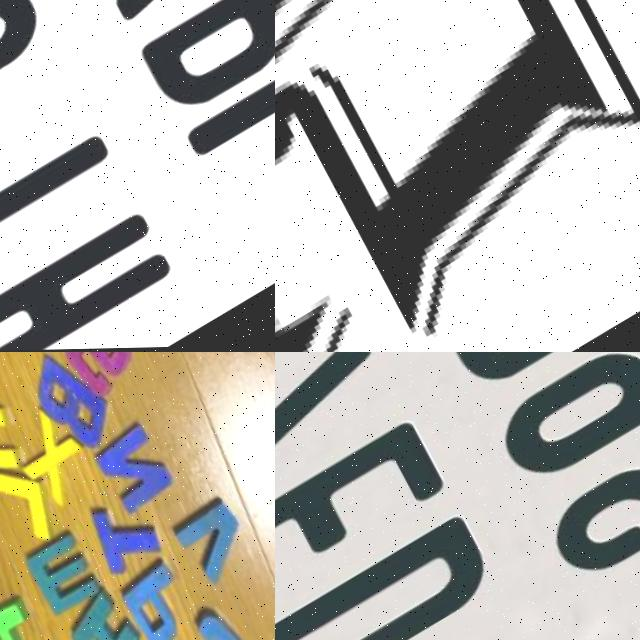7: (275, 352, 407, 537)
9: (484, 352, 640, 499)
B: (135, 0, 275, 130), (18, 352, 130, 467)
D: (275, 514, 513, 640)
E: (275, 418, 456, 627)
F: (0, 597, 54, 640)
G: (275, 0, 640, 352)
H: (0, 207, 188, 352)
J: (174, 602, 275, 640)
K: (63, 588, 163, 640)
L: (180, 0, 275, 212), (0, 455, 71, 557)
M: (27, 531, 112, 622)
N: (89, 421, 185, 521)
P: (118, 557, 210, 640)
R: (0, 396, 31, 484)
S: (540, 382, 640, 593), (50, 352, 157, 409)
T: (0, 107, 136, 314), (83, 485, 184, 589)
U: (0, 0, 64, 179)
V: (170, 492, 268, 595)
X: (11, 415, 101, 507)
